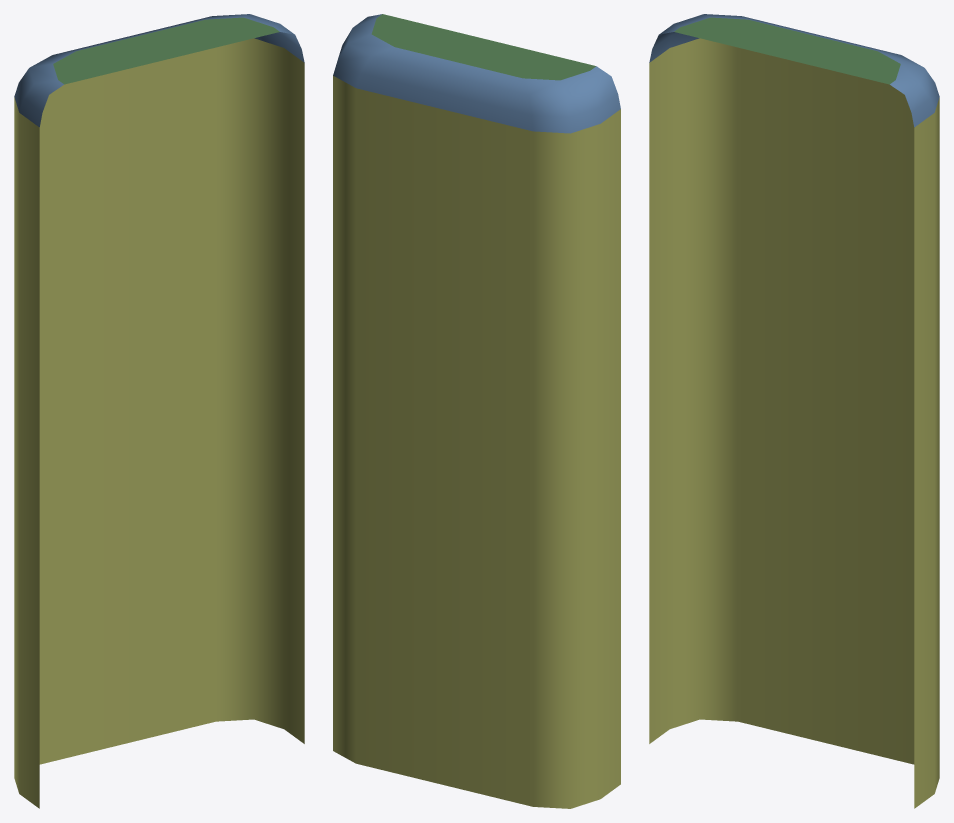
Rendered from Mini_Plat5.fbx.
3 renders of one model, left to right at view 1: azimuth 30°, elevation 25°; view 2: azimuth 150°, elevation 25°; view 3: azimuth 330°, elevation 25°, orthographic.
Parts seen in each view (by area): view 1: Mini_Plat1, Ground2, Wall2; view 2: Mini_Plat1, Wall2, Ground2; view 3: Mini_Plat1, Ground2, Wall2.
Part boxes in pixels (x1,y1,x2,y2): Mini_Plat1: [14, 38, 304, 808]; Ground2: [53, 17, 279, 84]; Wall2: [14, 14, 304, 127]; Mini_Plat1: [333, 75, 620, 808]; Wall2: [333, 14, 620, 133]; Ground2: [371, 14, 595, 80]; Mini_Plat1: [649, 38, 939, 808]; Ground2: [674, 17, 900, 84]; Wall2: [649, 14, 939, 127].
Bounding box in the file's own units: 5001 × 12956 × 1484.
